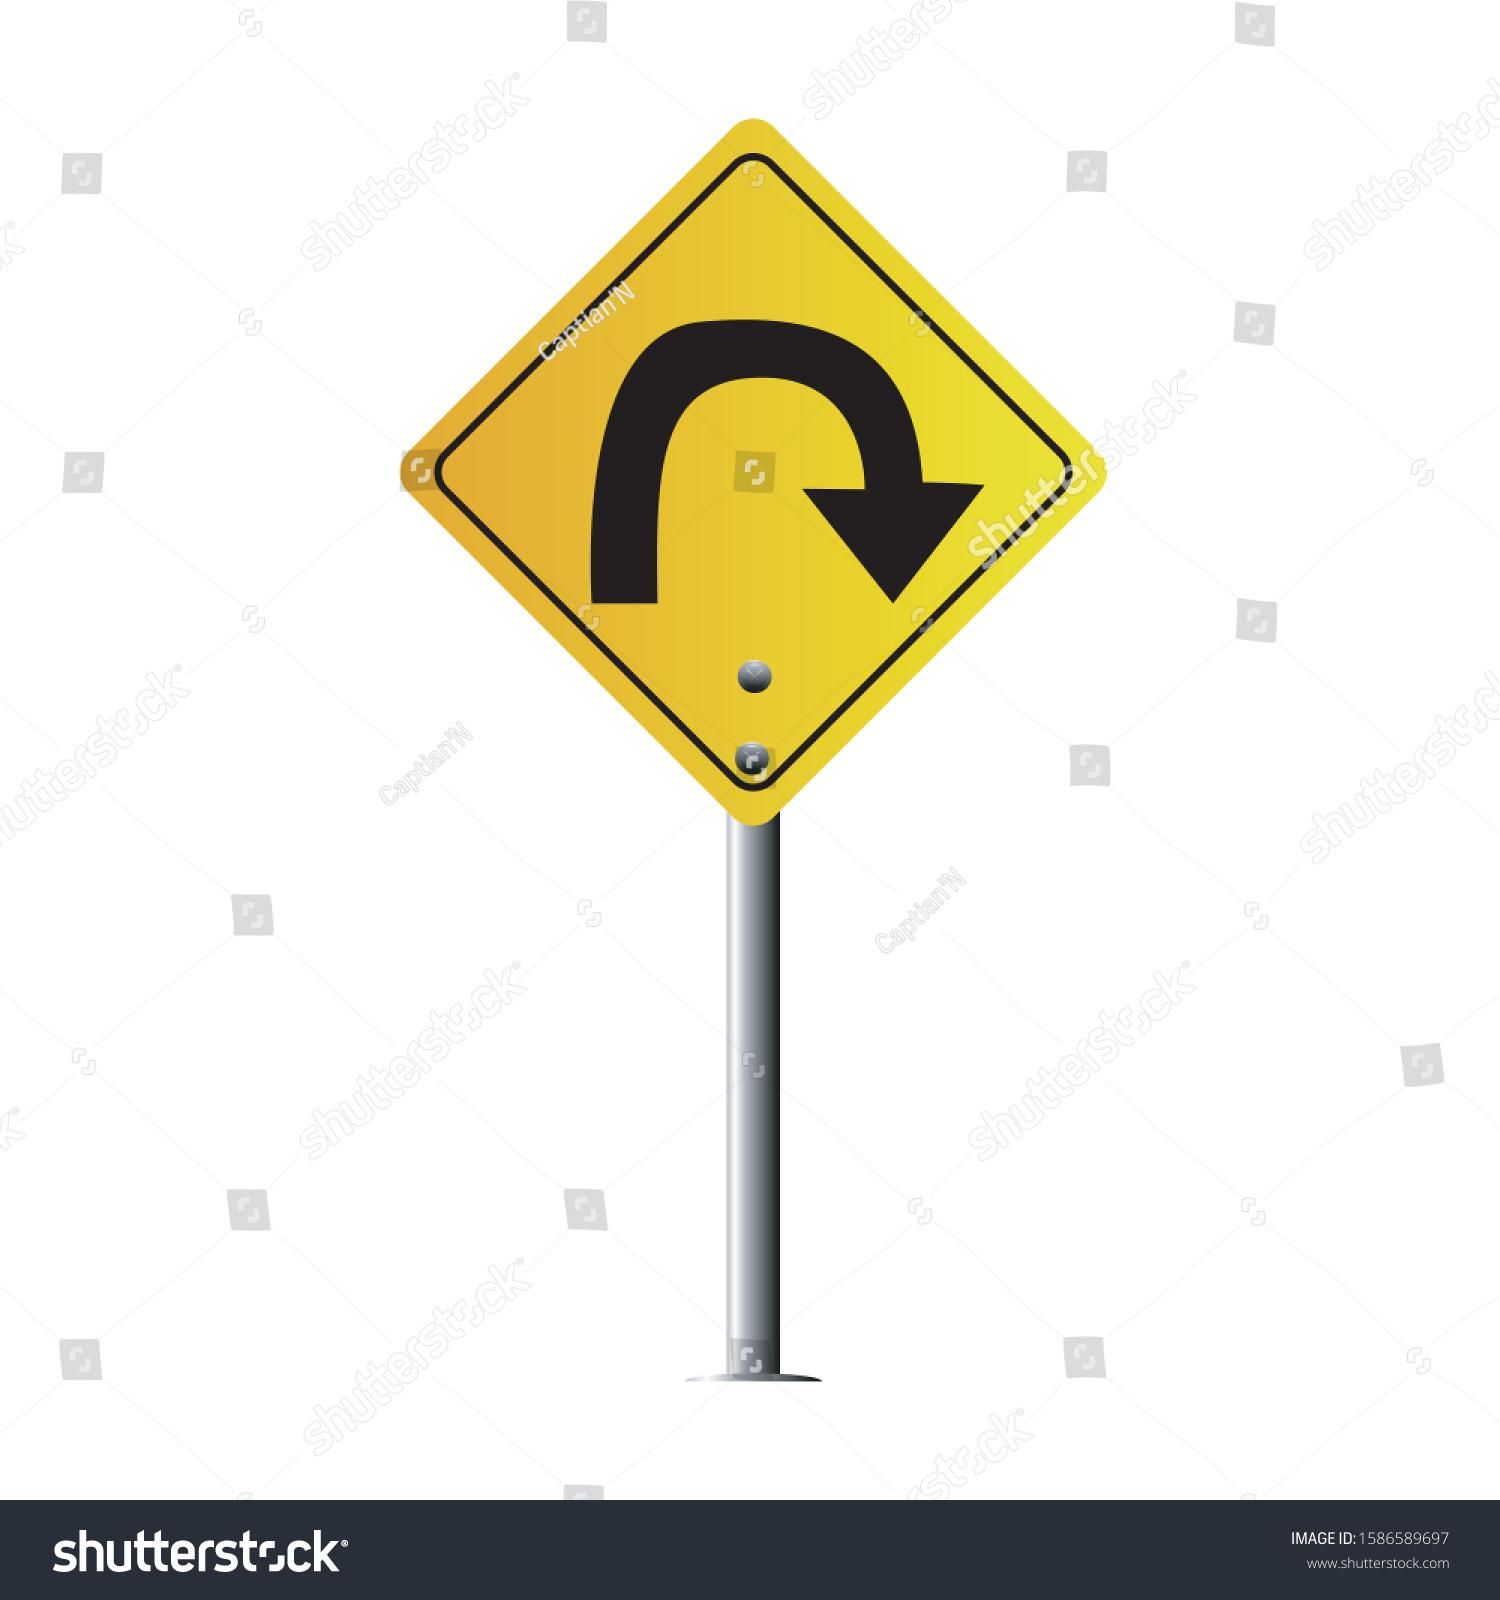Right Hair Pin Bend: (430, 187, 1071, 815)
